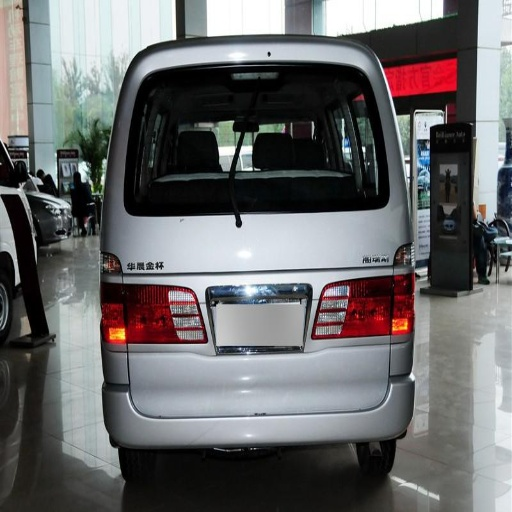back_bumper: (103, 336, 412, 453)
trunk: (122, 213, 397, 409)
